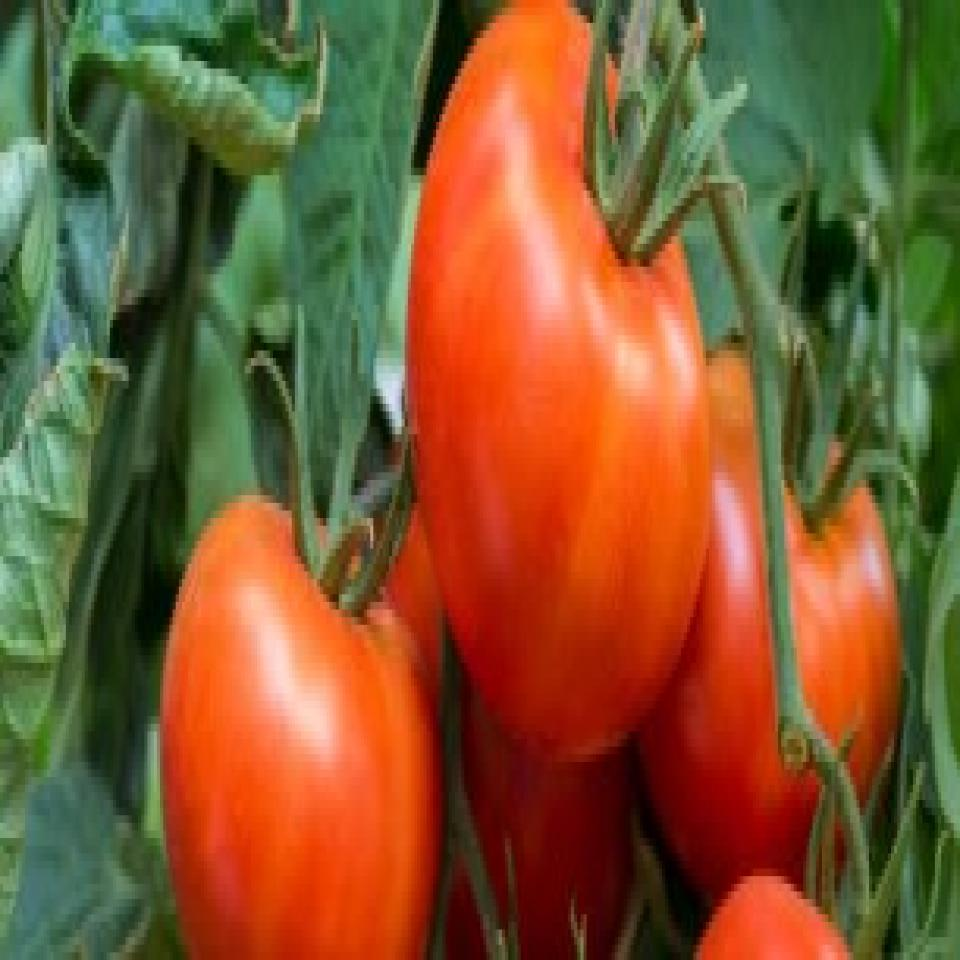Healthy: (419, 0, 748, 700), (614, 308, 899, 888), (140, 480, 464, 960)
